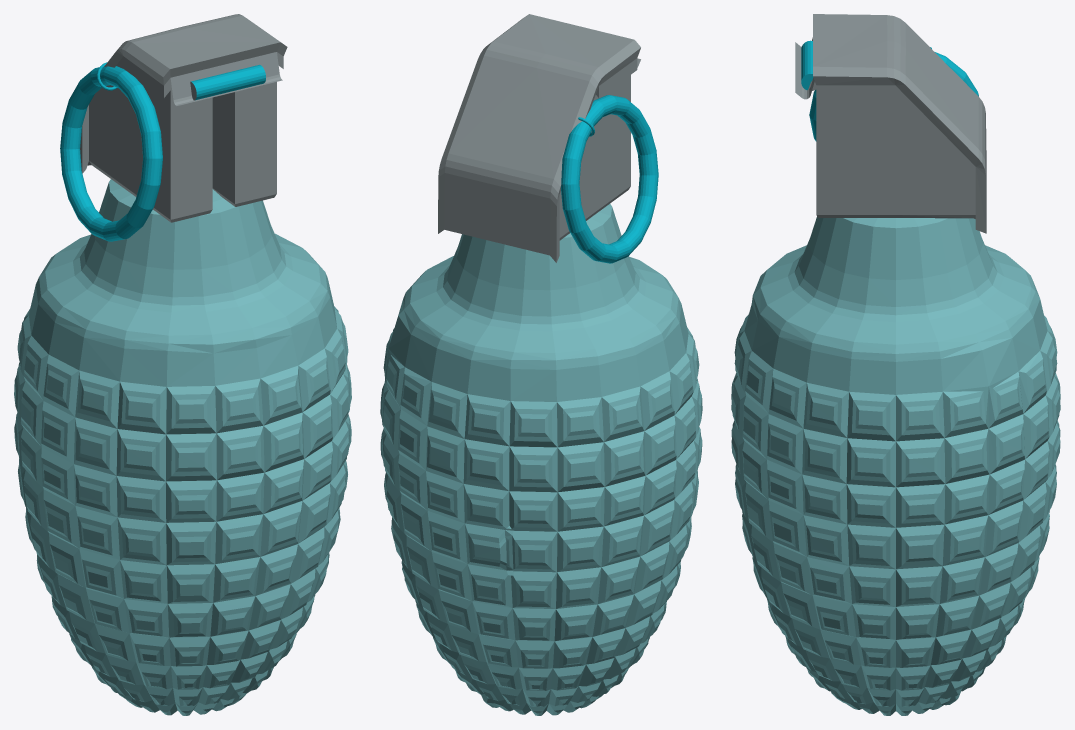
The picture shows the model from 3 angles, left to right: view 1: azimuth 30°, elevation 25°; view 2: azimuth 150°, elevation 25°; view 3: azimuth 270°, elevation 25°; orthographic projection. The views are drawn at different scales.
Parts seen in each view (by area): view 1: world; view 2: world; view 3: world.
Boxes of the visible parts, x1,y1,x2,y2 form: world: (14,14,351,715); world: (380,14,702,715); world: (731,14,1060,715).
Bounding box in the file's own units: 0.4496 × 1 × 0.4496.
